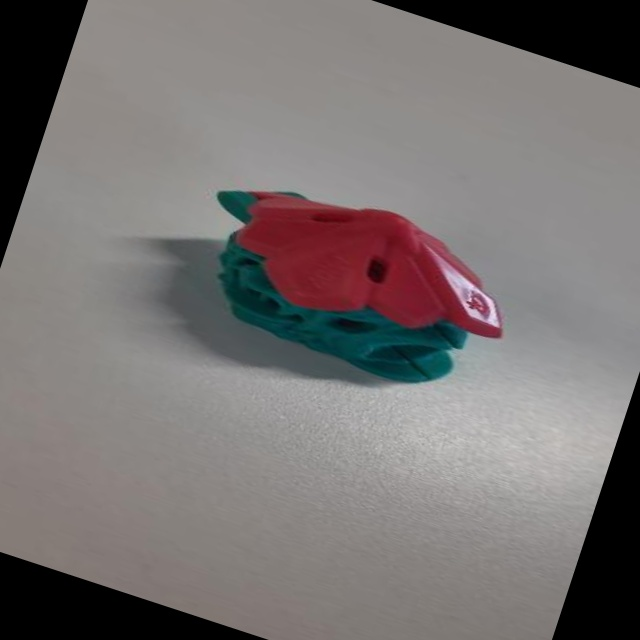House: (165, 153, 538, 428)
